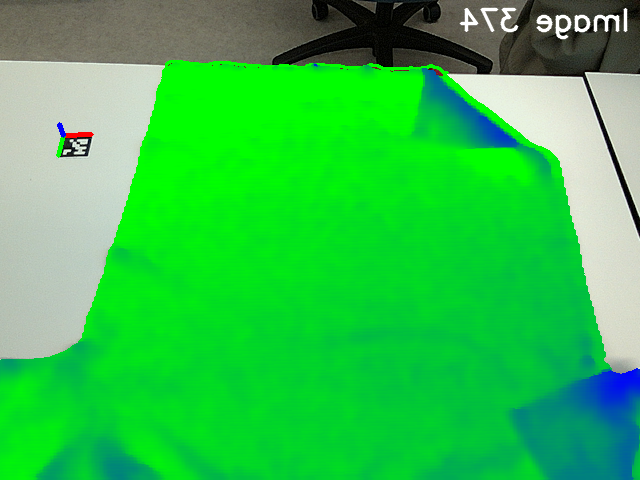V: (491, 380, 551, 442), (394, 97, 447, 149)
